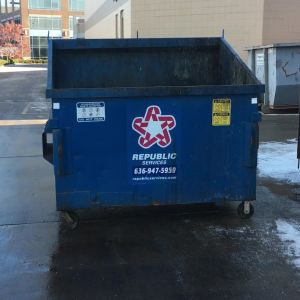Dumpster: (40, 29, 270, 233)
